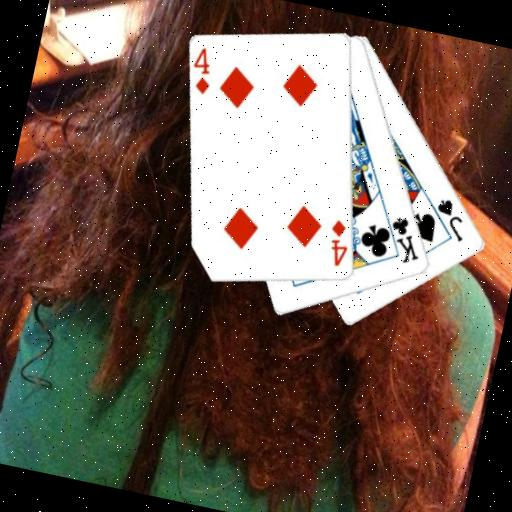4D: (185, 43, 219, 98), (321, 216, 355, 270)
JS: (427, 193, 472, 244)
KC: (373, 211, 428, 268)
